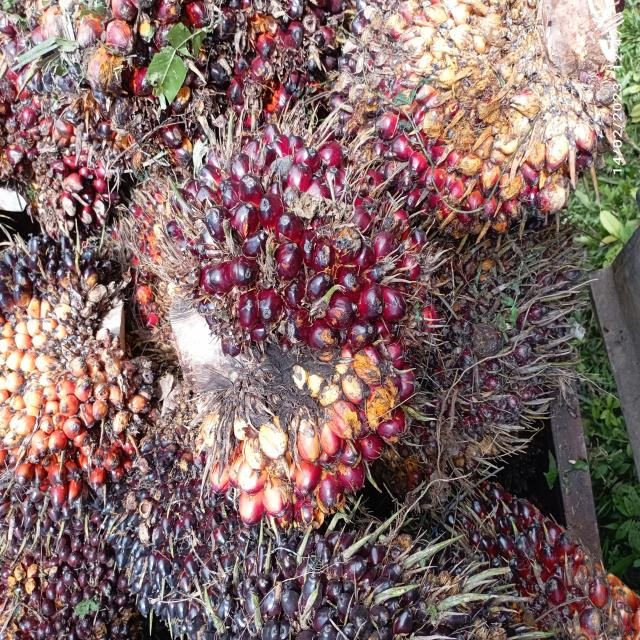fraksi 00: (402, 175, 593, 517)
fraksi 1: (88, 83, 452, 525)
fraksi 4: (0, 261, 175, 514)
